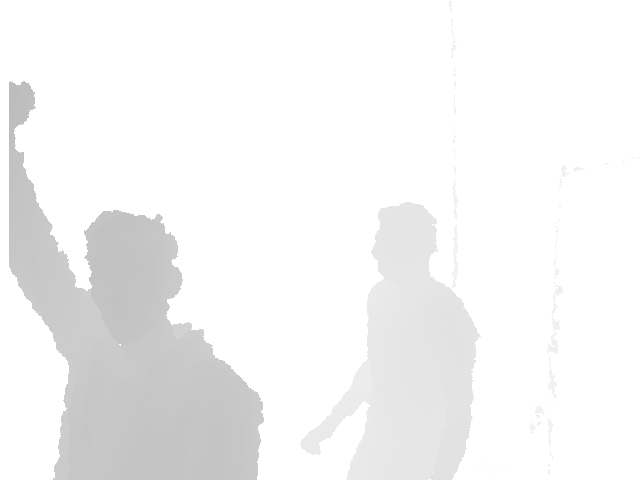hand: (7, 76, 36, 146)
head: (83, 206, 182, 343), (370, 201, 438, 288)
person: (7, 80, 265, 479), (300, 200, 481, 480)
